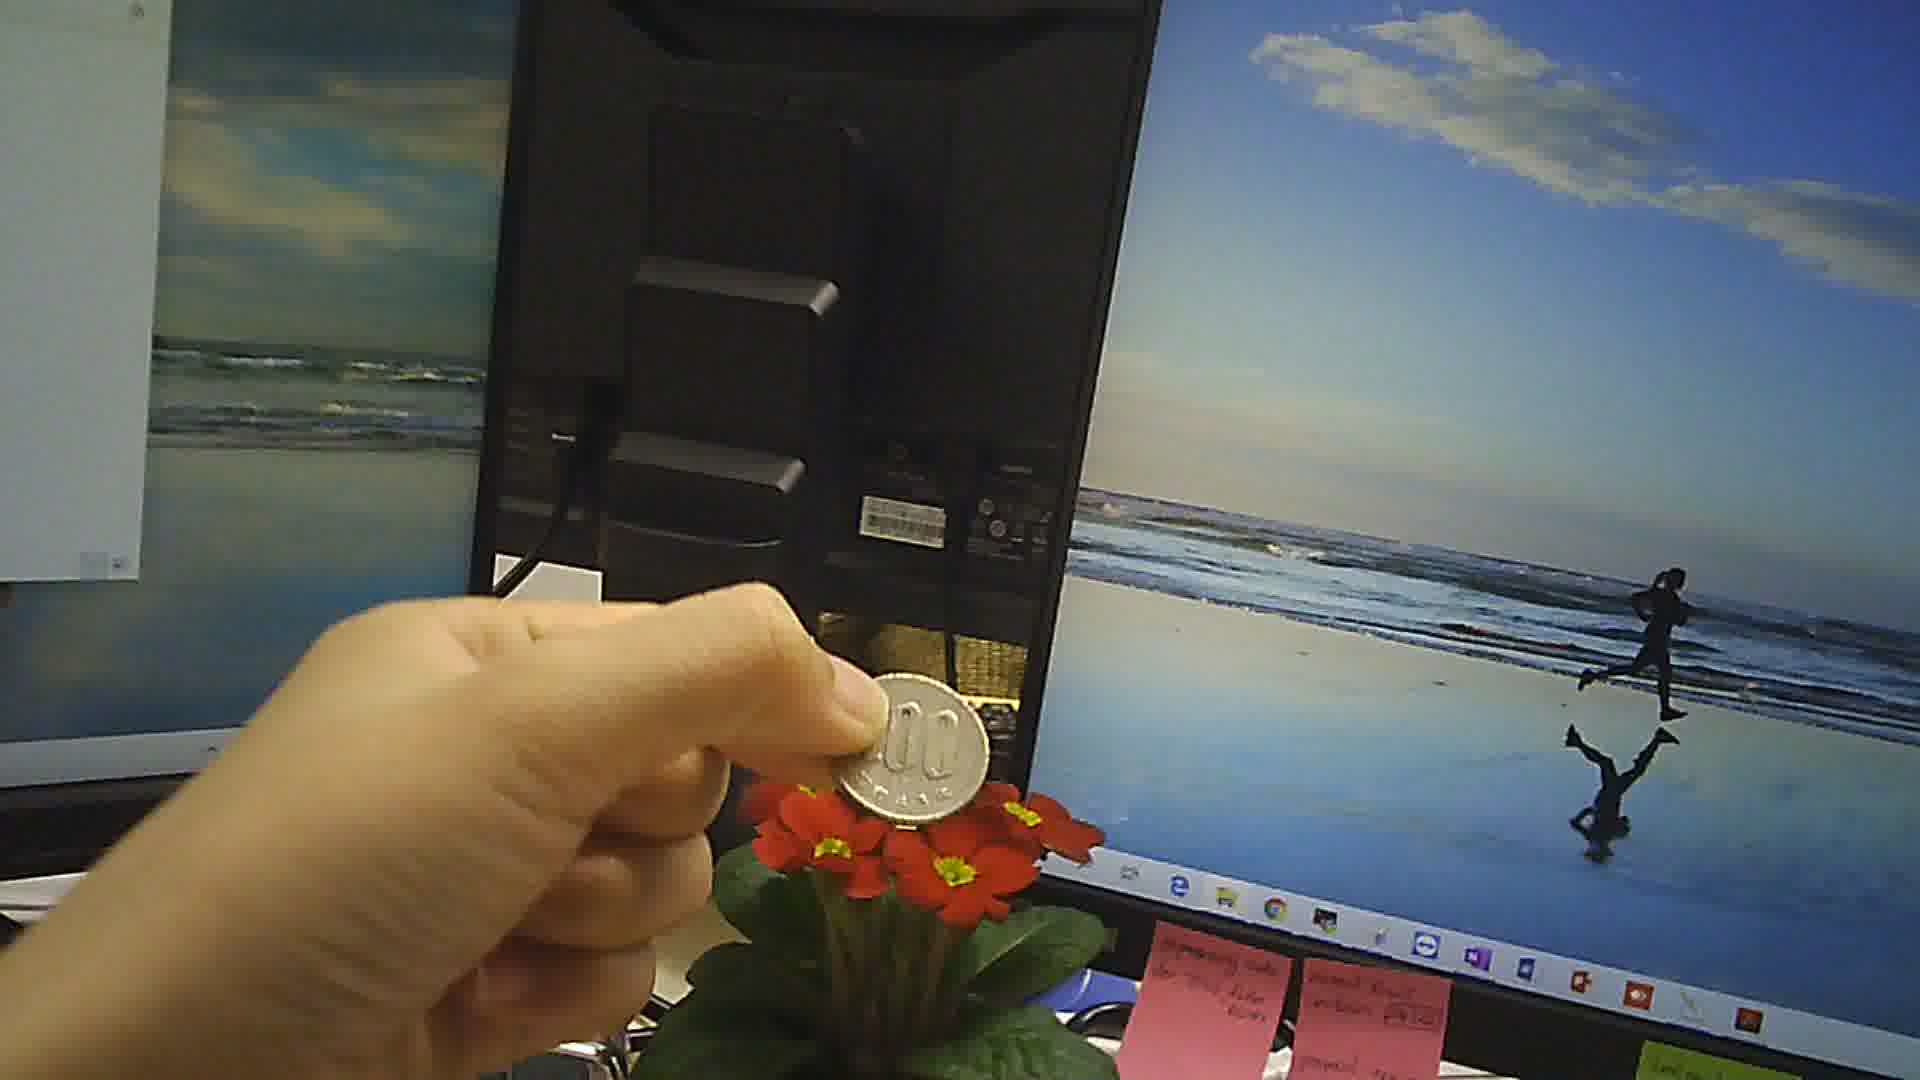100 Yen: (837, 662, 984, 819)
